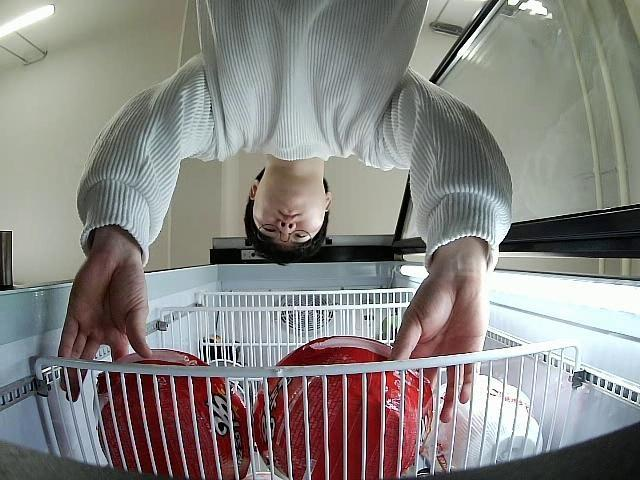10_wangTtukkeong: (253, 335, 434, 480), (93, 349, 254, 480)
